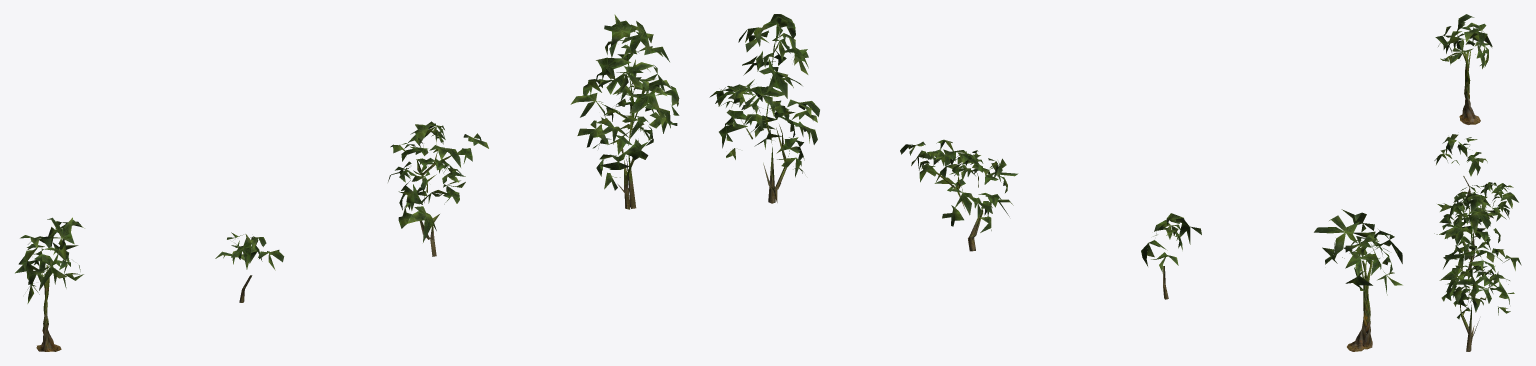
File: pachira_aquatica_01.glb
The picture shows the model from 3 angles, left to right: view 1: azimuth 30°, elevation 25°; view 2: azimuth 150°, elevation 25°; view 3: azimuth 270°, elevation 25°; orthographic projection. The views are drawn at different scales.
Visible parts, largest first — view 1: pachira_aquatica_01_leaves_d, pachira_aquatica_01_leaves_c, pachira_aquatica_01_leaves_a, pachira_aquatica_01_leaves_b, pachira_aquatica_01_bark_d, pachira_aquatica_01_bark_a; view 2: pachira_aquatica_01_leaves_d, pachira_aquatica_01_leaves_c, pachira_aquatica_01_leaves_a, pachira_aquatica_01_leaves_b, pachira_aquatica_01_bark_a, pachira_aquatica_01_bark_d; view 3: pachira_aquatica_01_leaves_d, pachira_aquatica_01_leaves_c, pachira_aquatica_01_leaves_a, pachira_aquatica_01_leaves_b, pachira_aquatica_01_bark_a, pachira_aquatica_01_bark_d, pachira_aquatica_01_bark_c.
Boxes of the visible parts, x1,y1,x2,y2 form: pachira_aquatica_01_leaves_d: (570, 14, 679, 190); pachira_aquatica_01_leaves_c: (388, 121, 488, 242); pachira_aquatica_01_leaves_a: (15, 217, 84, 303); pachira_aquatica_01_leaves_b: (215, 232, 284, 270); pachira_aquatica_01_bark_d: (601, 44, 644, 209); pachira_aquatica_01_bark_a: (36, 265, 61, 351); pachira_aquatica_01_leaves_d: (709, 14, 819, 177); pachira_aquatica_01_leaves_c: (900, 139, 1018, 232); pachira_aquatica_01_leaves_a: (1314, 209, 1402, 295); pachira_aquatica_01_leaves_b: (1141, 213, 1201, 271); pachira_aquatica_01_bark_a: (1347, 260, 1372, 351); pachira_aquatica_01_bark_d: (741, 41, 786, 203); pachira_aquatica_01_leaves_d: (1434, 192, 1521, 319); pachira_aquatica_01_leaves_c: (1437, 182, 1518, 243); pachira_aquatica_01_leaves_a: (1435, 14, 1492, 68); pachira_aquatica_01_leaves_b: (1434, 134, 1487, 176); pachira_aquatica_01_bark_a: (1459, 50, 1480, 124); pachira_aquatica_01_bark_d: (1459, 220, 1494, 351); pachira_aquatica_01_bark_c: (1462, 200, 1499, 268).
Bounding box in the file's own units: 6.86 × 1.89 × 0.9873.
Materials: 2 (2 with a texture image).
